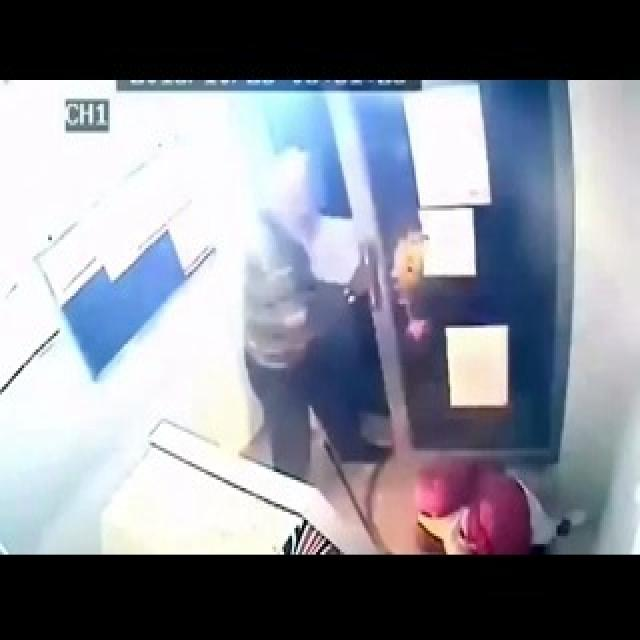thief: (238, 142, 365, 495), (404, 452, 538, 558)
